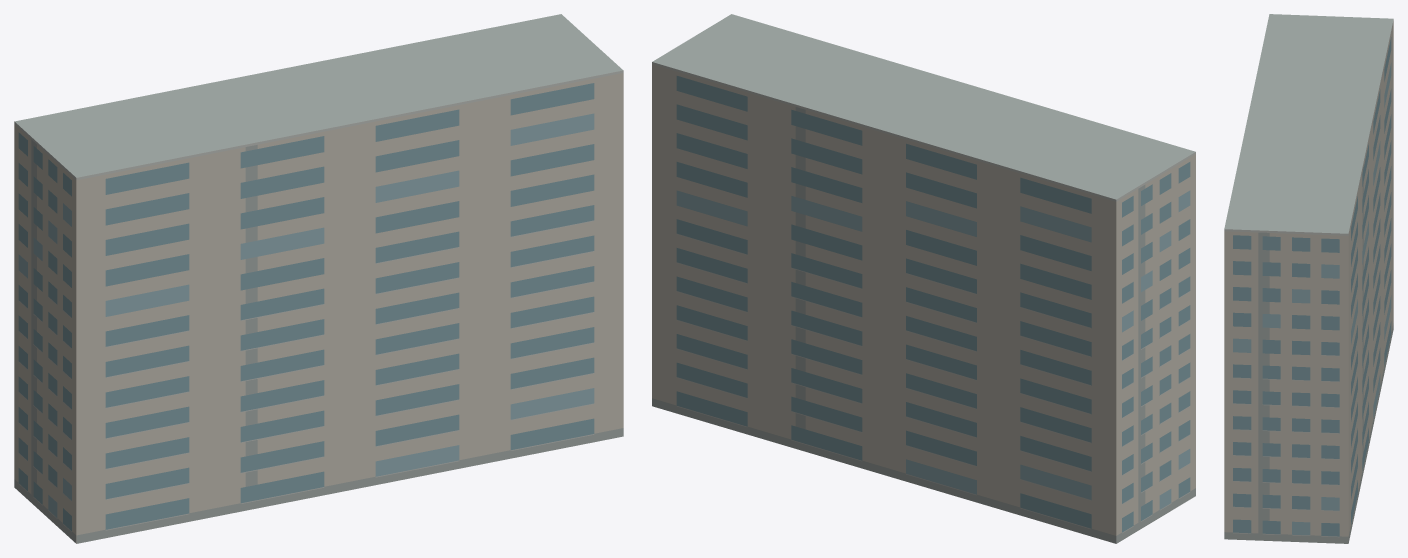
The model's file is residential-a12561be-f242-48c0-a0aa-4d3a4f9b4242.glb.
The picture shows the model from 3 angles, left to right: view 1: azimuth 30°, elevation 25°; view 2: azimuth 150°, elevation 25°; view 3: azimuth 270°, elevation 25°; orthographic projection. The views are drawn at different scales.
Visible parts, largest first — view 1: residential-a12561be-f242-48c0-a0aa-4d3a4f9b4242.tmp; view 2: residential-a12561be-f242-48c0-a0aa-4d3a4f9b4242.tmp; view 3: residential-a12561be-f242-48c0-a0aa-4d3a4f9b4242.tmp.
Boxes of the visible parts, x1,y1,x2,y2 form: residential-a12561be-f242-48c0-a0aa-4d3a4f9b4242.tmp: [14, 14, 623, 543]; residential-a12561be-f242-48c0-a0aa-4d3a4f9b4242.tmp: [652, 14, 1195, 543]; residential-a12561be-f242-48c0-a0aa-4d3a4f9b4242.tmp: [1224, 14, 1393, 543].
Bounding box in the file's own units: 55.63 × 36.6 × 18.13.
